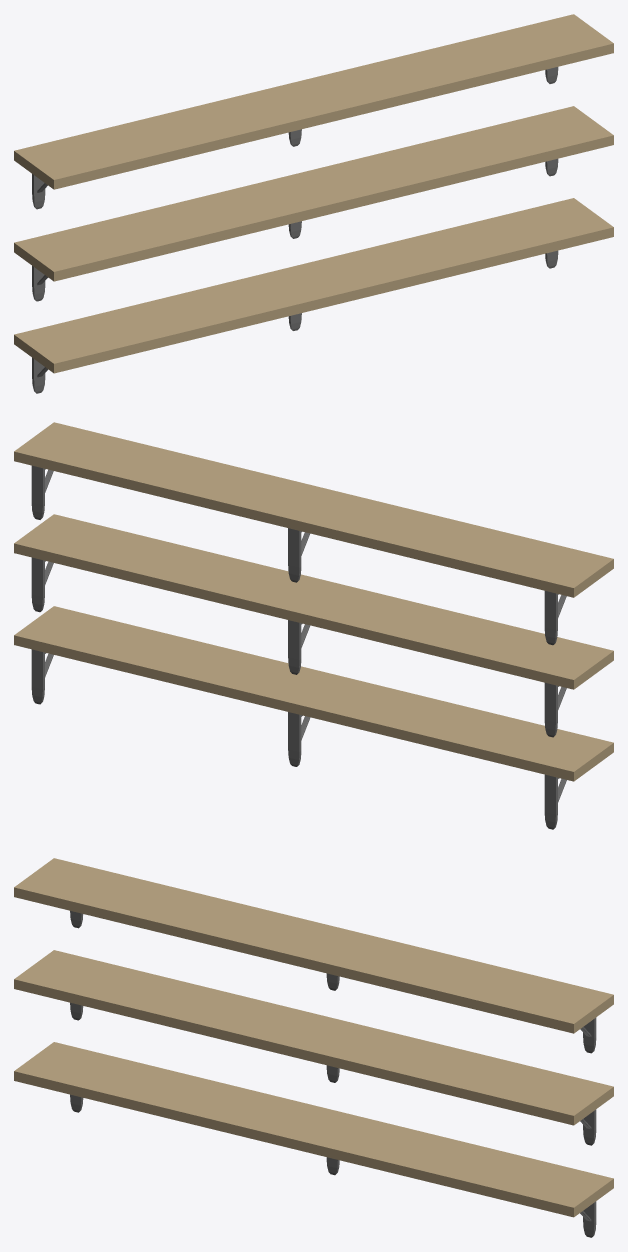
Rendered from BookShelf_4.fbx.
3 views of the same model, one above another, from view 1: azimuth 30°, elevation 25°; view 2: azimuth 150°, elevation 25°; view 3: azimuth 330°, elevation 25° (orthographic).
Visible parts, largest first — view 1: BookShelf4; view 2: BookShelf4; view 3: BookShelf4.
Boxes of the visible parts, <box> form: BookShelf4: <box>14,14,613,393</box>; BookShelf4: <box>14,422,613,829</box>; BookShelf4: <box>14,858,613,1237</box>.
Size of the model in its own units: 591 by 249 by 73.14.
